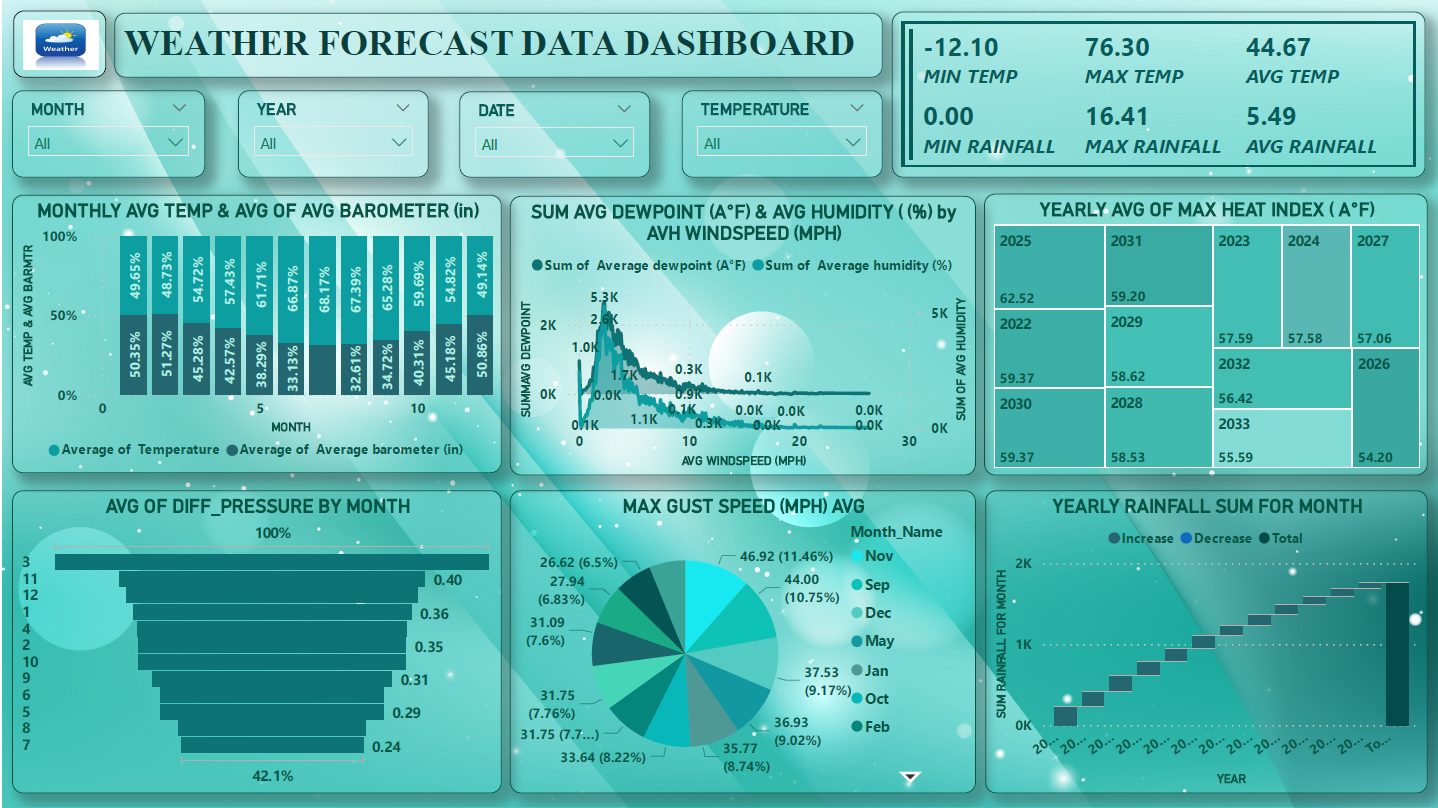

The dashboard page shown, as its layout file describes it:
{"tool":"powerbi","page":{"name":"Page 1","canvas":[1280,720],"ordinal":0},"visuals":[{"type":"textbox","box":[98.9,13.3,683.8,57.9],"z":0},{"type":"image","box":[9,10.9,83.2,60.3],"z":1000},{"type":"slicer","title":"ABC","fields":{"Values":["Weather_Data.Month_Name"]},"box":[8.4,82,171.3,78.4],"z":2000},{"type":"slicer","fields":{"Values":["Weather_Data.Year"]},"box":[208.6,82,170.1,78.4],"z":3000},{"type":"slicer","fields":{"Values":["Weather_Data.Date"]},"box":[406.4,83.2,170.1,77.2],"z":4000},{"type":"slicer","fields":{"Values":["Weather_Data. Temperature"]},"box":[604.2,82,178.5,78.4],"z":5000},{"type":"hundredPercentStackedColumnChart","title":"MONTHLY AVG TEMP  & AVG OF AVG BAROMETER (in) ","fields":{"Category":["Weather_Data. Month"],"Y":["Avg(Weather_Data. Temperature)","Avg(Weather_Data. Average barometer (in))"]},"box":[8.4,174.9,435.4,248.4],"z":6000},{"type":"multiRowCard","fields":{"Values":["Min(Weather_Data. Temperature)","Max(Weather_Data. Temperature)1","Avg(Weather_Data. Temperature)2","Min(Weather_Data.Rainfall for year (in))","Max(Weather_Data.Rainfall for year (in))1","Avg(Weather_Data.Rainfall for year (in))2"]},"box":[791.2,12.1,475.2,148.3],"z":7000},{"type":"funnel","title":"AVG OF DIFF_PRESSURE BY MONTH","fields":{"Category":["Weather_Data. Month"],"Y":["Avg(Weather_Data. diff_pressure)"]},"box":[8.4,437.8,435.4,270.2],"z":8000},{"type":"areaChart","title":"SUM AVG DEWPOINT (A°F) & AVG HUMIDITY  (  (%) by  AVH WINDSPEED (MPH)","fields":{"Category":["Weather_Data. Average windspeed (mph)"],"Y":["Sum(Weather_Data. Average dewpoint (A°F))"],"Y2":["Sum(Weather_Data. Average humidity (%))"]},"box":[451.1,176.1,414.9,248.4],"z":9000},{"type":"pieChart","title":"MAX GUST SPEED (MPH) AVG","fields":{"Category":["Weather_Data.Month_Name"],"Y":["Avg(Weather_Data. Maximum gust speed (mph))"]},"box":[451.1,437.8,414.9,270.2],"z":10000},{"type":"treemap","title":"YEARLY AVG OF MAX HEAT INDEX ( A°F) ","fields":{"Group":["Weather_Data.Year"],"Values":["Avg(Weather_Data. Maximum heat index (Â°F))"]},"box":[873.2,173.7,394.4,250.9],"z":11000},{"type":"waterfallChart","title":"YEARLY RAINFALL SUM FOR MONTH ","fields":{"Y":["Sum(Weather_Data. Rainfall for month (in))"],"Category":["Weather_Data.Year"]},"box":[874.4,437.8,393.2,270.2],"z":12000}]}

Visuals, with their boxes in screenshot pixels (x1, y1, x2, y2), scaled from the page's 1280x720 canvas onto the 1438x808 screenshot:
textbox: <bbox>111, 15, 879, 80</bbox>
image: <bbox>10, 12, 104, 80</bbox>
"ABC" slicer: <bbox>9, 92, 202, 180</bbox>
slicer - Weather_Data.Year: <bbox>234, 92, 425, 180</bbox>
slicer - Weather_Data.Date: <bbox>457, 93, 648, 180</bbox>
slicer - Weather_Data. Temperature: <bbox>679, 92, 879, 180</bbox>
"MONTHLY AVG TEMP  & AVG OF AVG BAROMETER (in) " hundredPercentStackedColumnChart: <bbox>9, 196, 499, 475</bbox>
multiRowCard - Min(Weather_Data. Temperature) x Max(Weather_Data. Temperature)1: <bbox>889, 14, 1423, 180</bbox>
"AVG OF DIFF_PRESSURE BY MONTH" funnel: <bbox>9, 491, 499, 795</bbox>
"SUM AVG DEWPOINT (A°F) & AVG HUMIDITY  (  (%) by  AVH WINDSPEED (MPH)" areaChart: <bbox>507, 198, 973, 476</bbox>
"MAX GUST SPEED (MPH) AVG" pieChart: <bbox>507, 491, 973, 795</bbox>
"YEARLY AVG OF MAX HEAT INDEX ( A°F) " treemap: <bbox>981, 195, 1424, 476</bbox>
"YEARLY RAINFALL SUM FOR MONTH " waterfallChart: <bbox>982, 491, 1424, 795</bbox>
